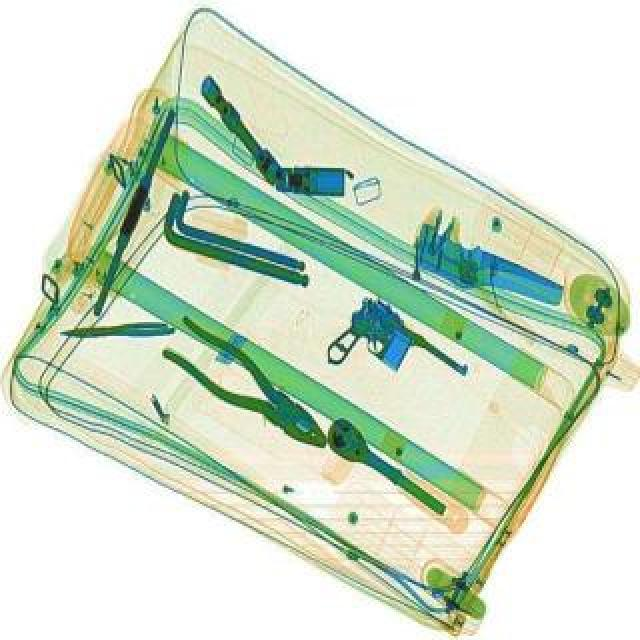gun: (316, 288, 472, 428)
wrench: (152, 314, 344, 462), (58, 318, 178, 340)
